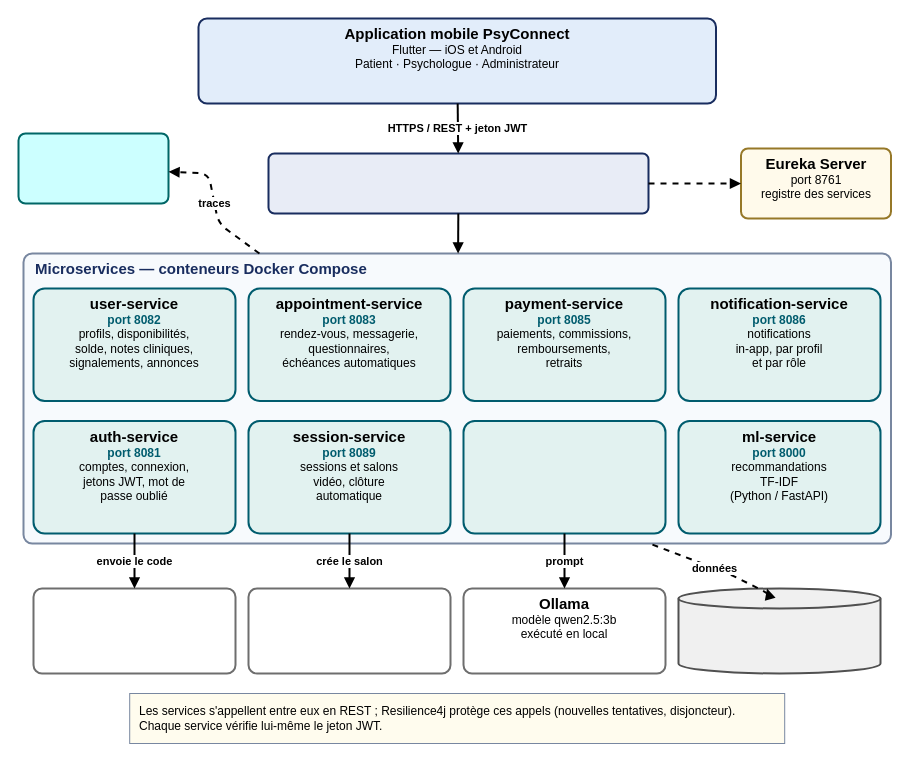
Some shapes in this 909 by 761 pixel diagram are drawn without their labels. The shapes that lost their labels are listed below. From the top down, each one's centre as x and y in pixels, then its label:
[93,168]: Zipkin port 9411 traçage distribué
[458,183]: API Gateway (8080) Spring Cloud Gateway — point d'entrée unique
[564,477]: ai-companion-service port 8087 compagnon Xalaat, garde-fou de crise
[134,630]: Mailpit serveur d'e-mails (code de réinitialisation)
[349,630]: Jitsi Meet salons de visioconférence l’application rejoint le salon via le SDK
[779,630]: PostgreSQL (5434) 6 bases distinctes, une par service
